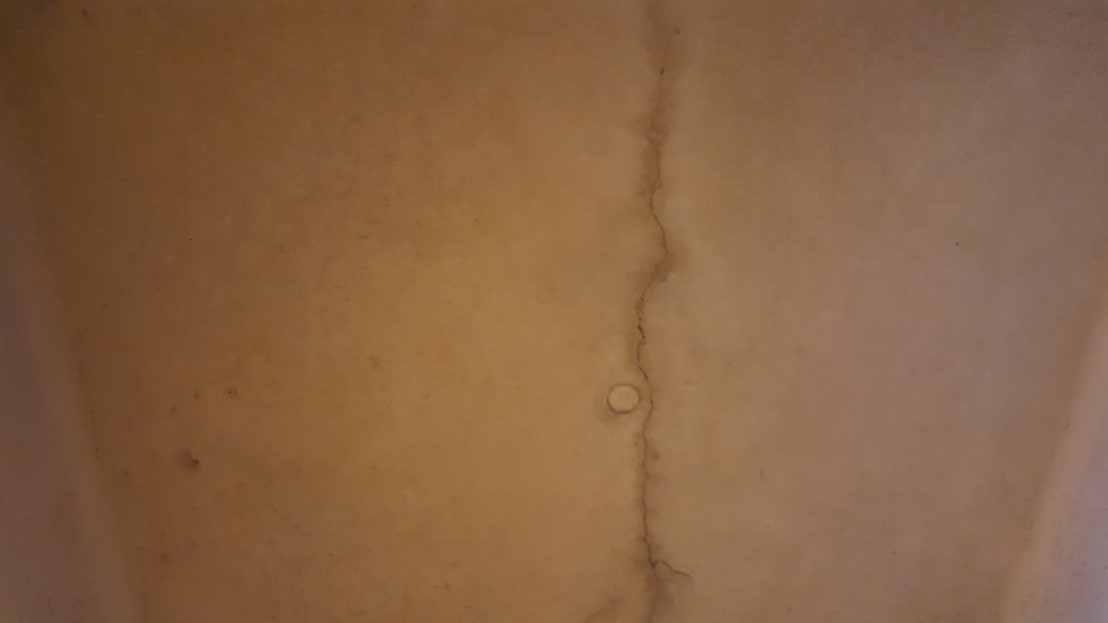Crack: (593, 0, 697, 623)
